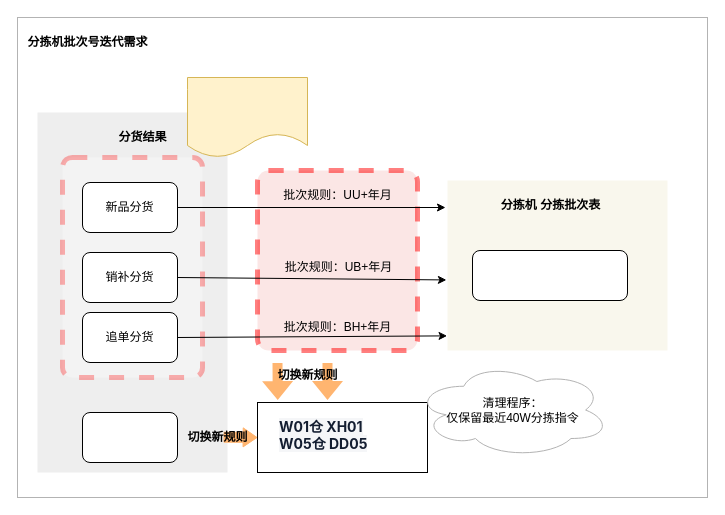
The diagram is 725 pixels wide and 515 high, and some of its shapes have lost their labels. Here are the shapes that lost their labels. From the top down, the centre of each, then its label:
At [247,117]: "切换为单店企划 分货调度逻辑".
At [550,275]: "分拣批次表".
At [130,437]: "手动导入分货".
